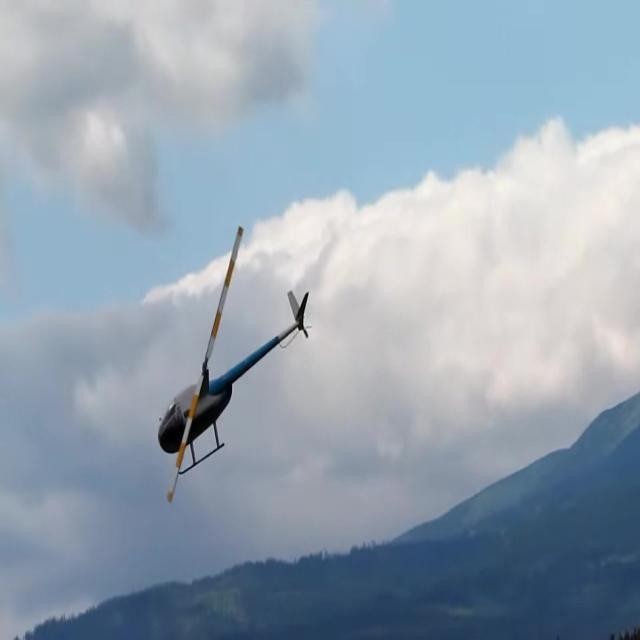CIV_HELO: (158, 290, 310, 476)
